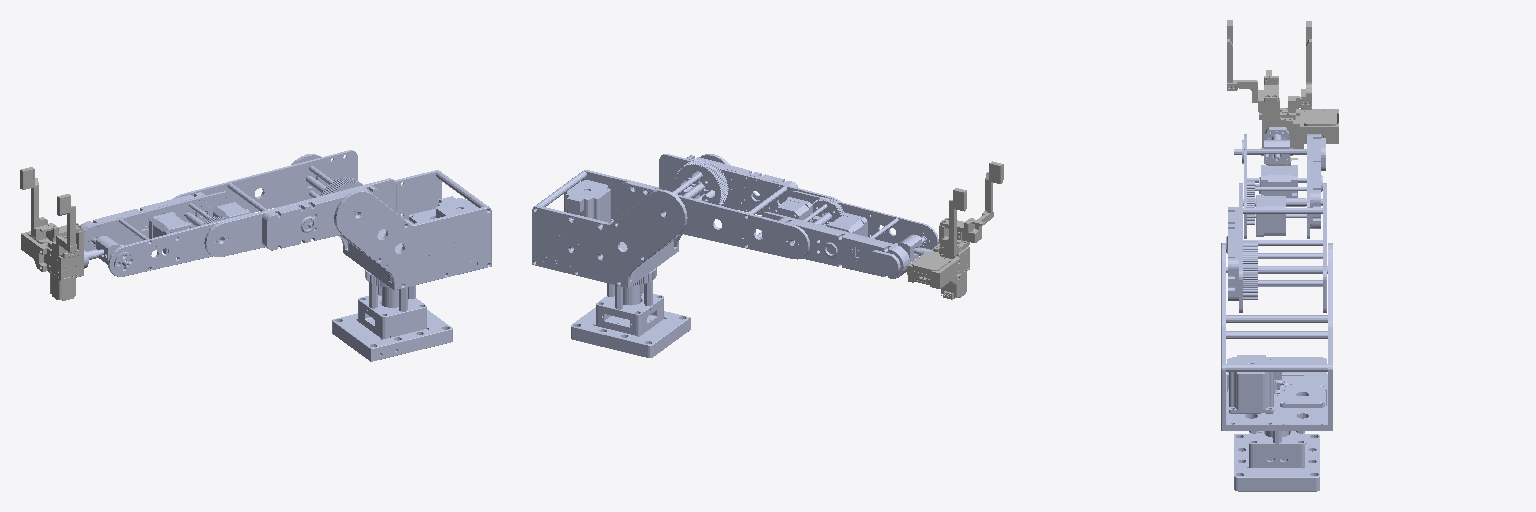
robot.urdf — dorna2-rebuild:
<?xml version="1.0" encoding="utf-8"?>
<!-- This URDF was automatically created by SolidWorks to URDF Exporter! Originally created by [author] ([email redacted]) 
     Commit Version: 1.6.0-4-g7f85cfe  Build Version: 1.6.7995.38578
     For more information, please see http://wiki.ros.org/sw_urdf_exporter -->
<robot
  name="dorna2-rebuild">
  <link
    name="arm-base">
    <inertial>
      <origin
        xyz="0.0130297713316107 -0.00114975966203177 -0.0374646293488068"
        rpy="0 0 0" />
      <mass
        value="0.722677101161874" />
      <inertia
        ixx="0.0007575085876277"
        ixy="1.73072475255338E-06"
        ixz="3.13516963406659E-07"
        iyy="0.00100766511534585"
        iyz="-3.27512956603854E-07"
        izz="0.00170957147677784" />
    </inertial>
    <visual>
      <origin
        xyz="0 0 0"
        rpy="0 0 0" />
      <geometry>
        <mesh
          filename="package://dorna2-rebuild/meshes/arm-base.STL" />
      </geometry>
      <material
        name="">
        <color
          rgba="0.792156862745098 0.819607843137255 0.933333333333333 1" />
      </material>
    </visual>
    <collision>
      <origin
        xyz="0 0 0"
        rpy="0 0 0" />
      <geometry>
        <mesh
          filename="package://dorna2-rebuild/meshes/arm-base.STL" />
      </geometry>
    </collision>
  </link>
  <link
    name="arm1">
    <inertial>
      <origin
        xyz="0.0319364391506851 -0.00685553927744708 0.0935995336561955"
        rpy="0 0 0" />
      <mass
        value="0.675270731859809" />
      <inertia
        ixx="0.000845244420426302"
        ixy="-1.2854424605343E-05"
        ixz="0.000448958622274107"
        iyy="0.00202049846041066"
        iyz="-2.15954334562878E-06"
        izz="0.00191415489362433" />
    </inertial>
    <visual>
      <origin
        xyz="0 0 0"
        rpy="0 0 0" />
      <geometry>
        <mesh
          filename="package://dorna2-rebuild/meshes/arm1.STL" />
      </geometry>
      <material
        name="">
        <color
          rgba="0.792156862745098 0.819607843137255 0.933333333333333 1" />
      </material>
    </visual>
    <collision>
      <origin
        xyz="0 0 0"
        rpy="0 0 0" />
      <geometry>
        <mesh
          filename="package://dorna2-rebuild/meshes/arm1.STL" />
      </geometry>
    </collision>
  </link>
  <joint
    name="arm1j"
    type="revolute">
    <origin
      xyz="0.012824 -0.0009058 0"
      rpy="0 0 0" />
    <parent
      link="arm-base" />
    <child
      link="arm1" />
    <axis
      xyz="0 0 1" />
    <limit
      lower="-175"
      upper="180"
      effort="0"
      velocity="0" />
  </joint>
  <link
    name="arm2">
    <inertial>
      <origin
        xyz="-0.0509684856540523 -0.00934921844811536 6.27172130210352E-06"
        rpy="0 0 0" />
      <mass
        value="0.271676192230468" />
      <inertia
        ixx="0.000109874068209706"
        ixy="-1.01611075762435E-08"
        ixz="-8.79674657870351E-09"
        iyy="0.00133562993036314"
        iyz="1.05928427865827E-11"
        izz="0.00129117502224423" />
    </inertial>
    <visual>
      <origin
        xyz="0 0 0"
        rpy="0 0 0" />
      <geometry>
        <mesh
          filename="package://dorna2-rebuild/meshes/arm2.STL" />
      </geometry>
      <material
        name="">
        <color
          rgba="0.792156862745098 0.819607843137255 0.933333333333333 1" />
      </material>
    </visual>
    <collision>
      <origin
        xyz="0 0 0"
        rpy="0 0 0" />
      <geometry>
        <mesh
          filename="package://dorna2-rebuild/meshes/arm2.STL" />
      </geometry>
    </collision>
  </link>
  <joint
    name="arm2-j"
    type="revolute">
    <origin
      xyz="-0.095476 0 0.17761"
      rpy="0 0 0" />
    <parent
      link="arm1" />
    <child
      link="arm2" />
    <axis
      xyz="0 -1 0" />
    <limit
      lower="-91"
      upper="181"
      effort="0"
      velocity="0" />
  </joint>
  <link
    name="arm3">
    <inertial>
      <origin
        xyz="-0.0310100738060076 0.00249857154557624 -5.11239799511065E-06"
        rpy="0 0 0" />
      <mass
        value="0.293438315476537" />
      <inertia
        ixx="6.73628408447047E-05"
        ixy="2.234556788685E-06"
        ixz="-3.7841356797735E-09"
        iyy="0.000573707689981916"
        iyz="3.24732920710982E-09"
        izz="0.000542174612171414" />
    </inertial>
    <visual>
      <origin
        xyz="0 0 0"
        rpy="0 0 0" />
      <geometry>
        <mesh
          filename="package://dorna2-rebuild/meshes/arm3.STL" />
      </geometry>
      <material
        name="">
        <color
          rgba="0.792156862745098 0.819607843137255 0.933333333333333 1" />
      </material>
    </visual>
    <collision>
      <origin
        xyz="0 0 0"
        rpy="0 0 0" />
      <geometry>
        <mesh
          filename="package://dorna2-rebuild/meshes/arm3.STL" />
      </geometry>
    </collision>
  </link>
  <joint
    name="arm3-j"
    type="revolute">
    <origin
      xyz="-0.2032 0.0009058 0"
      rpy="0 0 0" />
    <parent
      link="arm2" />
    <child
      link="arm3" />
    <axis
      xyz="0 -1 0" />
    <limit
      lower="-142"
      upper="142"
      effort="0"
      velocity="0" />
  </joint>
  <link
    name="wrist1">
    <inertial>
      <origin
        xyz="-3.36486224709054E-05 4.63814847724406E-05 -5.53353885601737E-07"
        rpy="0 0 0" />
      <mass
        value="0.0194666574215483" />
      <inertia
        ixx="6.42167054871909E-06"
        ixy="-3.72526965141416E-11"
        ixz="1.49920406135475E-08"
        iyy="1.94033958382409E-06"
        iyz="2.60500278060696E-12"
        izz="5.5184228436032E-06" />
    </inertial>
    <visual>
      <origin
        xyz="0 0 0"
        rpy="0 0 0" />
      <geometry>
        <mesh
          filename="package://dorna2-rebuild/meshes/wrist1.STL" />
      </geometry>
      <material
        name="">
        <color
          rgba="0.792156862745098 0.819607843137255 0.933333333333333 1" />
      </material>
    </visual>
    <collision>
      <origin
        xyz="0 0 0"
        rpy="0 0 0" />
      <geometry>
        <mesh
          filename="package://dorna2-rebuild/meshes/wrist1.STL" />
      </geometry>
    </collision>
  </link>
  <joint
    name="wrist1-j"
    type="revolute">
    <origin
      xyz="-0.1524 -0.0010033 0"
      rpy="0 0.016592 0" />
    <parent
      link="arm3" />
    <child
      link="wrist1" />
    <axis
      xyz="0 1 0" />
    <limit
      lower="-135"
      upper="135"
      effort="0"
      velocity="0" />
  </joint>
  <link
    name="wrist2">
    <inertial>
      <origin
        xyz="-0.0343695981308255 1.26294205991632E-08 -0.00113252449335743"
        rpy="0 0 0" />
      <mass
        value="0.0107694009383611" />
      <inertia
        ixx="8.95604606902058E-07"
        ixy="2.09045753590282E-12"
        ixz="-1.13747753917095E-07"
        iyy="3.78310186730164E-06"
        iyz="6.89832241320431E-13"
        izz="3.85897258651781E-06" />
    </inertial>
    <visual>
      <origin
        xyz="0 0 0"
        rpy="0 0 0" />
      <geometry>
        <mesh
          filename="package://dorna2-rebuild/meshes/wrist2.STL" />
      </geometry>
      <material
        name="">
        <color
          rgba="0.792156862745098 0.819607843137255 0.933333333333333 1" />
      </material>
    </visual>
    <collision>
      <origin
        xyz="0 0 0"
        rpy="0 0 0" />
      <geometry>
        <mesh
          filename="package://dorna2-rebuild/meshes/wrist2.STL" />
      </geometry>
    </collision>
  </link>
  <joint
    name="wrist2-j"
    type="revolute">
    <origin
      xyz="0 0 0"
      rpy="0 0 0" />
    <parent
      link="wrist1" />
    <child
      link="wrist2" />
    <axis
      xyz="-0.99986 0 -0.016592" />
    <limit
      lower="-360"
      upper="360"
      effort="0"
      velocity="0" />
  </joint>
  <link
    name="gripper">
    <inertial>
      <origin
        xyz="-0.070117 2.7856 1.1028"
        rpy="0 0 0" />
      <mass
        value="1.25" />
      <inertia
        ixx="0.00027027"
        ixy="1.465E-06"
        ixz="3.1416E-06"
        iyy="0.00026922"
        iyz="-1.5206E-07"
        izz="0.00034054" />
    </inertial>
    <visual>
      <origin
        xyz="0 0 0"
        rpy="0 0 0" />
      <geometry>
        <mesh
          filename="package://dorna2-rebuild/meshes/gripper.STL" />
      </geometry>
      <material
        name="">
        <color
          rgba="0.75294 0.75294 0.75294 1" />
      </material>
    </visual>
    <collision>
      <origin
        xyz="0 0 0"
        rpy="0 0 0" />
      <geometry>
        <mesh
          filename="package://dorna2-rebuild/meshes/gripper.STL" />
      </geometry>
    </collision>
  </link>
  <joint
    name="gripper-j"
    type="fixed">
    <origin
      xyz="0.021303 -2.739 -1.0897"
      rpy="-0.0018728 -0.016592 0" />
    <parent
      link="wrist2" />
    <child
      link="gripper" />
    <axis
      xyz="0 0 0" />
  </joint>
</robot>

--- Facts derived from the render (not from the file) ---
3 views of the same robot in one strip: view 1: azimuth 30°, elevation 25°; view 2: azimuth 150°, elevation 25°; view 3: azimuth 270°, elevation 25° (orthographic).
Robot: dorna2-rebuild — 7 links, 6 joints (5 revolute, 1 fixed); root link arm-base; default pose: all joints at 0.
Links seen in each view (by area): view 1: arm1, arm2, arm3, arm-base, gripper; view 2: arm1, arm2, arm3, arm-base, gripper; view 3: arm1, arm2, arm3, arm-base, gripper, wrist1.
Link boxes in pixels (x1=…): arm1: x1=291, y1=154, x2=491, y2=307; arm2: x1=173, y1=150, x2=396, y2=256; arm3: x1=81, y1=191, x2=254, y2=276; arm-base: x1=332, y1=269, x2=452, y2=361; gripper: x1=20, y1=167, x2=83, y2=300; arm1: x1=532, y1=154, x2=729, y2=305; arm2: x1=621, y1=154, x2=840, y2=259; arm3: x1=762, y1=191, x2=938, y2=278; arm-base: x1=571, y1=268, x2=690, y2=357; gripper: x1=907, y1=161, x2=1003, y2=299; arm1: x1=1221, y1=243, x2=1332, y2=437; arm2: x1=1226, y1=183, x2=1327, y2=312; arm3: x1=1242, y1=134, x2=1325, y2=238; arm-base: x1=1234, y1=431, x2=1319, y2=491; gripper: x1=1227, y1=20, x2=1338, y2=165; wrist1: x1=1234, y1=140, x2=1306, y2=163.
Bounding box of the posed robot: 0.6811 × 0.1495 × 0.3684 m (x, y, z).
Meshes: 7 distinct files referenced, 7 mesh visuals loaded (7 binary STL).